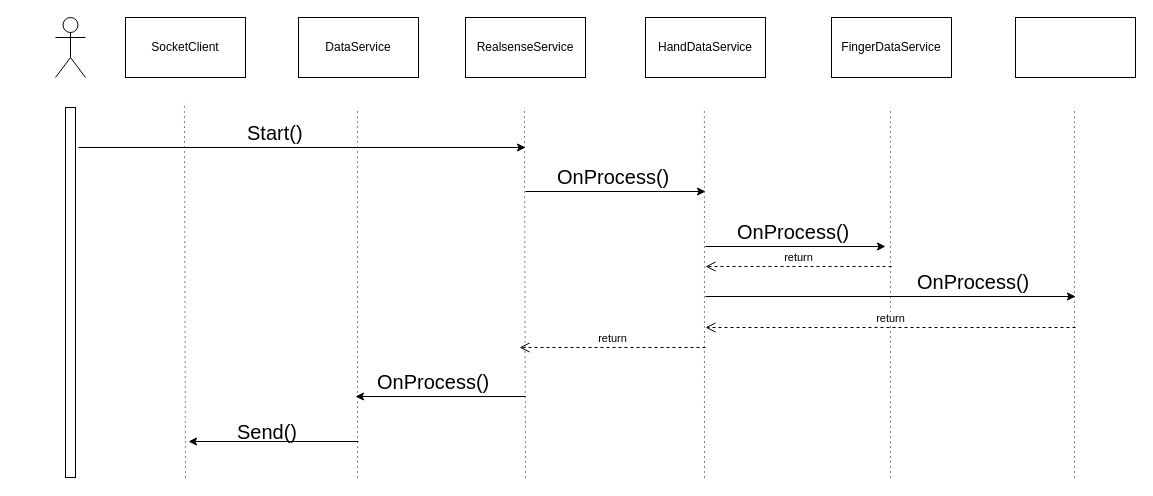
The diagram is 1153 pixels wide and 496 high, and some of its shapes have lost their labels. Each missing label, with the centre of its shape:
"Console da Câmera" goes at pixel 70 47.
"JointDataService" goes at pixel 1075 47.
